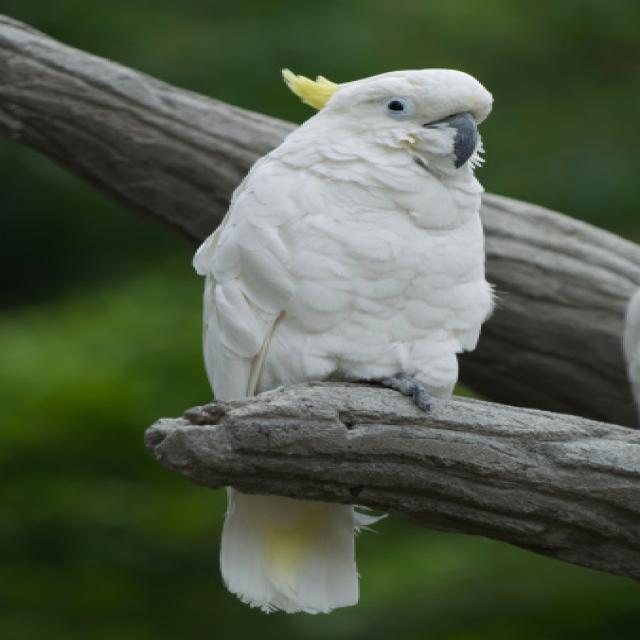Kakatua Putih: (121, 40, 528, 630)
